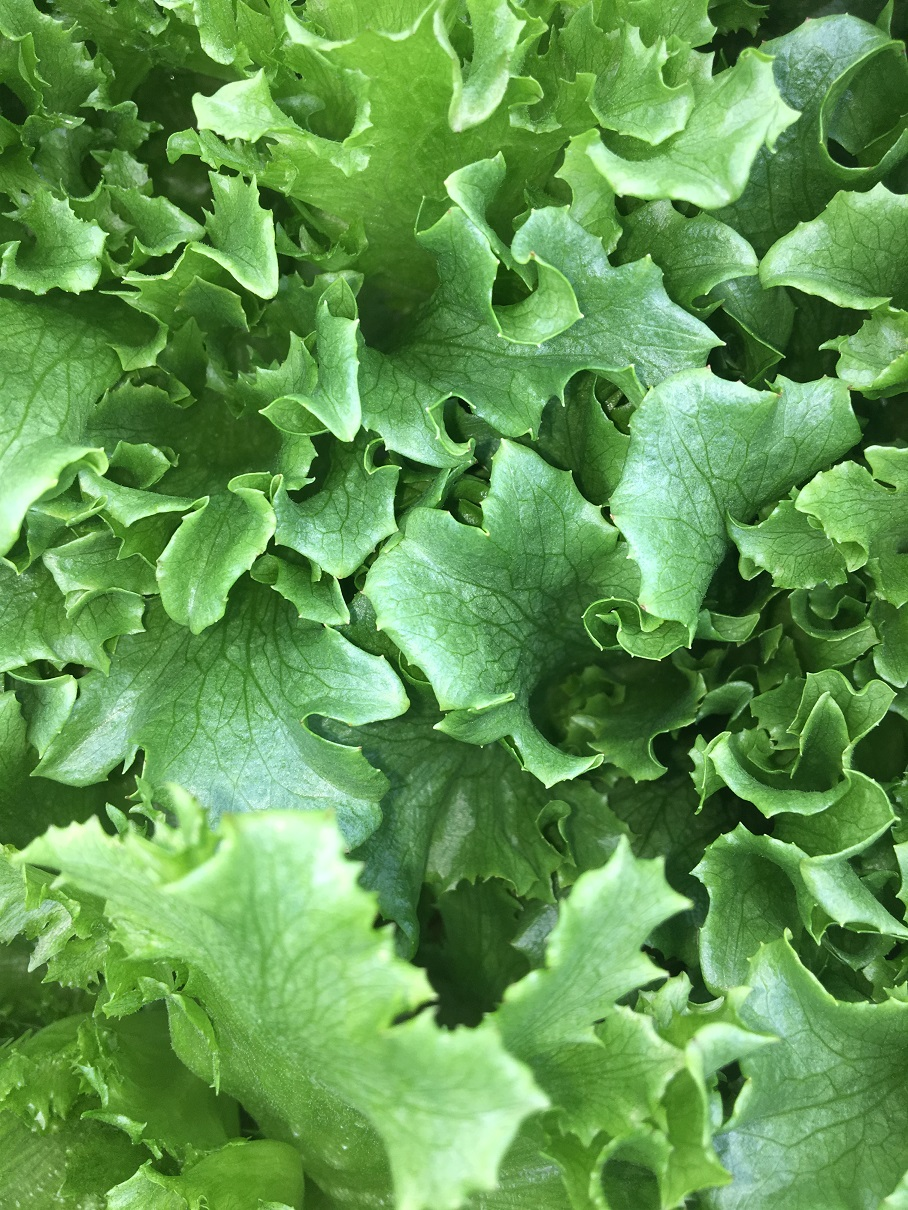tipburn: (300, 787, 347, 834), (595, 490, 639, 540), (757, 365, 800, 413), (512, 237, 554, 277), (685, 347, 724, 389), (624, 584, 660, 623), (755, 30, 782, 49), (803, 10, 824, 31)
